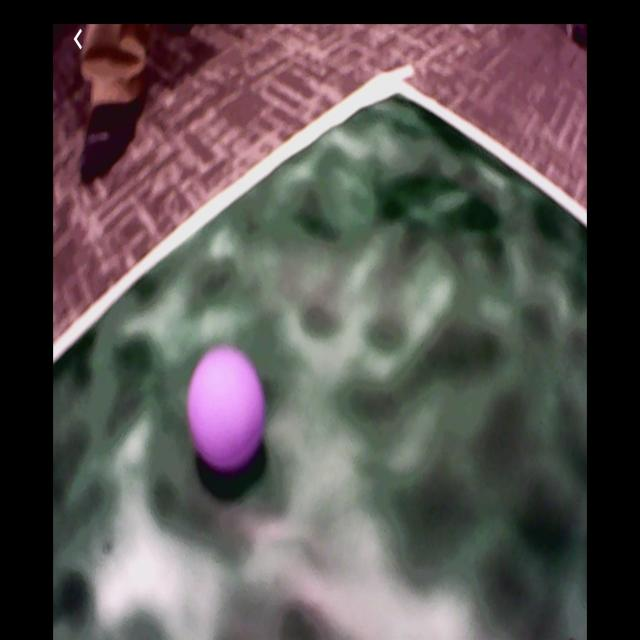ball: (186, 351, 266, 473)
